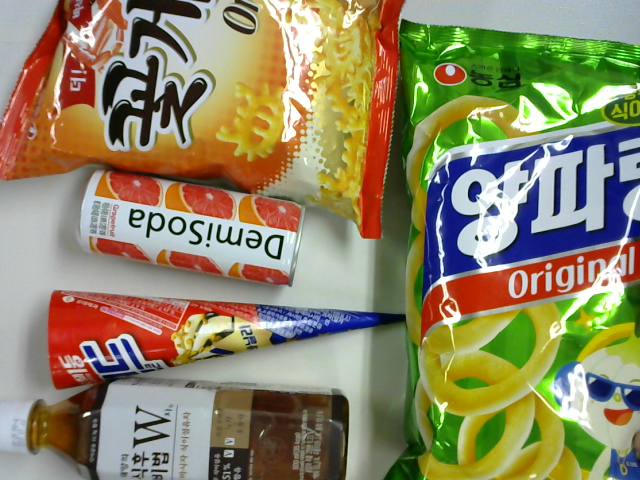Crabrang: (1, 1, 406, 239)
Demisoda_Grapefruit_Can_250ml: (75, 167, 304, 281)
Oninon_Ring: (382, 21, 639, 480)
Post-meal_recipe_W_tea_500ml: (10, 378, 350, 480)
World_Cone_Banila: (47, 288, 417, 391)
